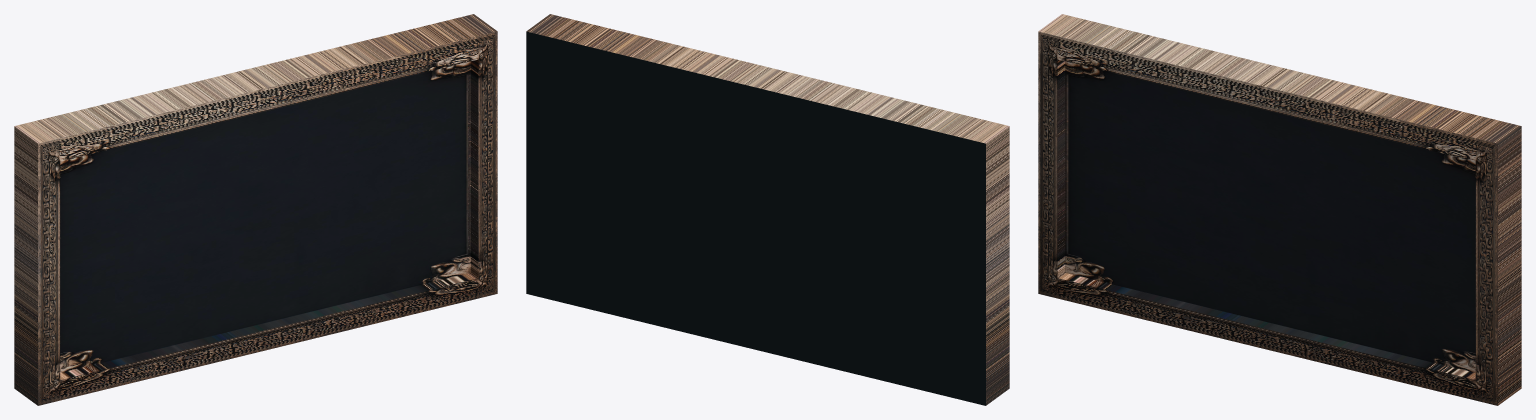
File: panel_caught.glb
The picture shows the model from 3 angles, left to right: view 1: azimuth 30°, elevation 25°; view 2: azimuth 150°, elevation 25°; view 3: azimuth 330°, elevation 25°; orthographic projection.
Parts seen in each view (by area): view 1: panel_caught; view 2: panel_caught; view 3: panel_caught.
Part boxes in pixels (bbox=[...]): panel_caught: bbox=[14, 14, 497, 405]; panel_caught: bbox=[526, 14, 1009, 405]; panel_caught: bbox=[1038, 14, 1521, 405].
Bounding box in the file's own units: 0.44 × 0.24 × 0.042.
Materials: 1 (1 with a texture image).
